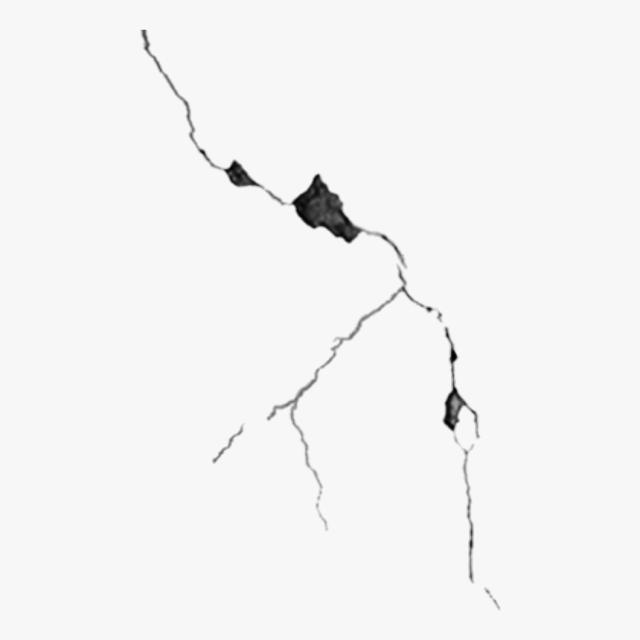Crack: (141, 26, 500, 610)
